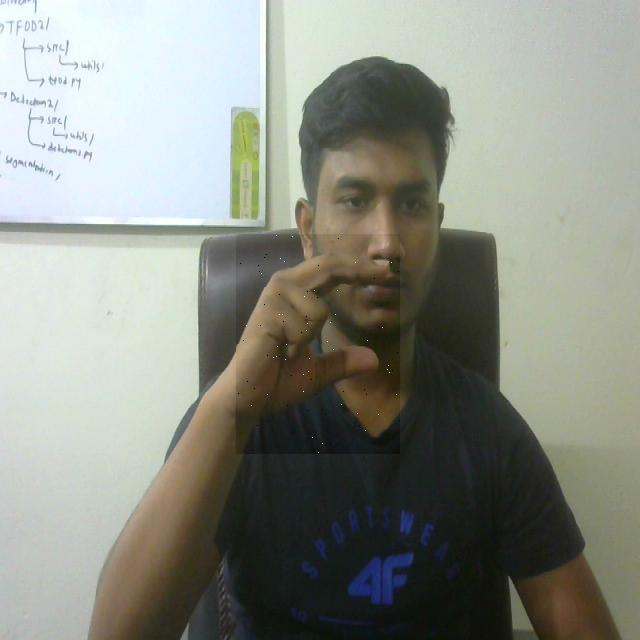No: (236, 234, 400, 454)
